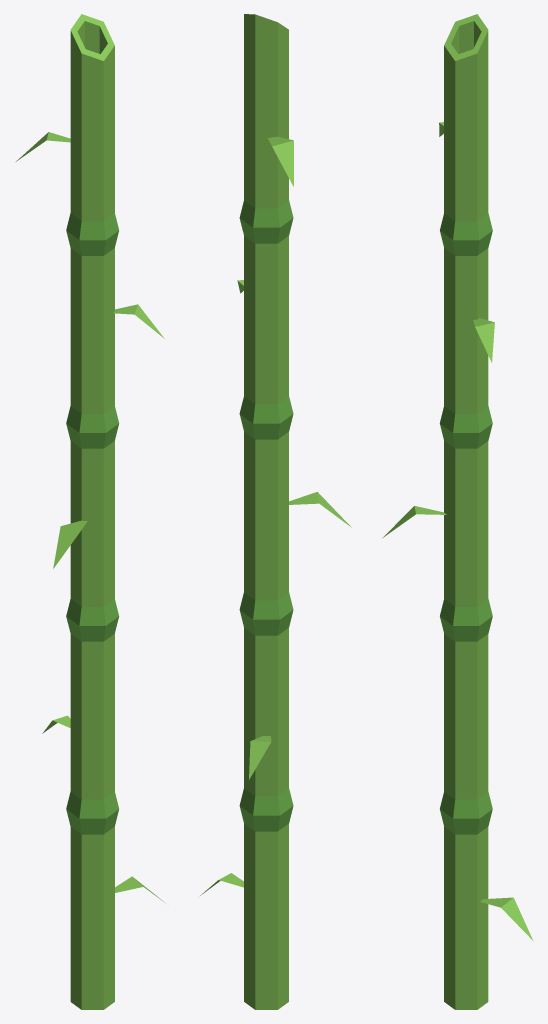
File: Bamboo_02.fbx
The picture shows the model from 3 angles, left to right: view 1: azimuth 30°, elevation 25°; view 2: azimuth 150°, elevation 25°; view 3: azimuth 330°, elevation 25°; orthographic projection.
Parts seen in each view (by area): view 1: Bamboo_02; view 2: Bamboo_02; view 3: Bamboo_02.
Part boxes in pixels (x1=…): Bamboo_02: x1=16, y1=14, x2=164, y2=1009; Bamboo_02: x1=200, y1=14, x2=351, y2=1009; Bamboo_02: x1=382, y1=14, x2=533, y2=1009.
Size of the model in its own units: 55.53 by 387 by 41.11.
